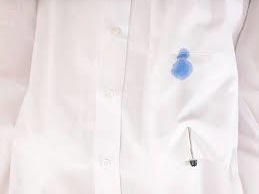ink: (172, 47, 192, 81)
